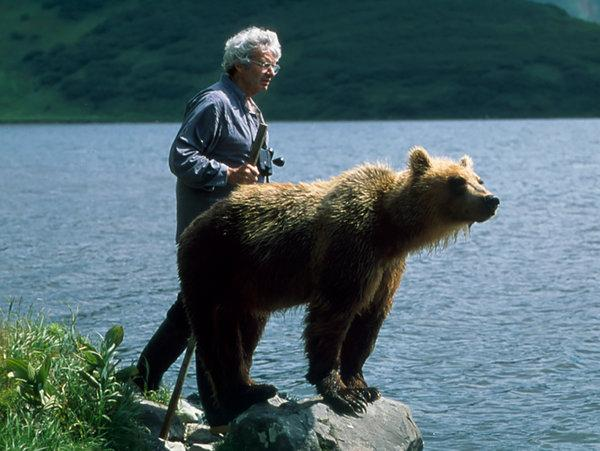bear: (404, 140, 509, 226)
